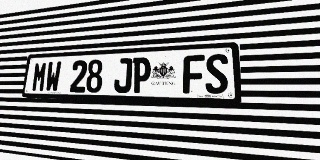2: (70, 60, 88, 92)
8: (85, 59, 104, 93)
F: (183, 55, 204, 94)
J: (113, 58, 133, 93)
M: (31, 62, 48, 92)
P: (131, 57, 151, 93)
S: (205, 53, 228, 94)
W: (45, 61, 62, 92)
